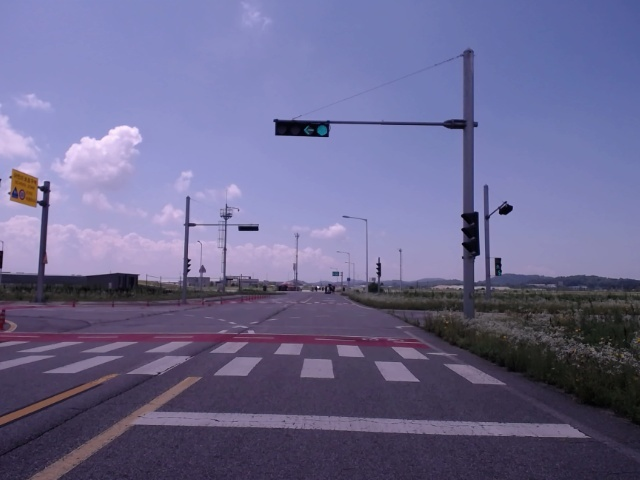all_green_4: (276, 119, 327, 139)
